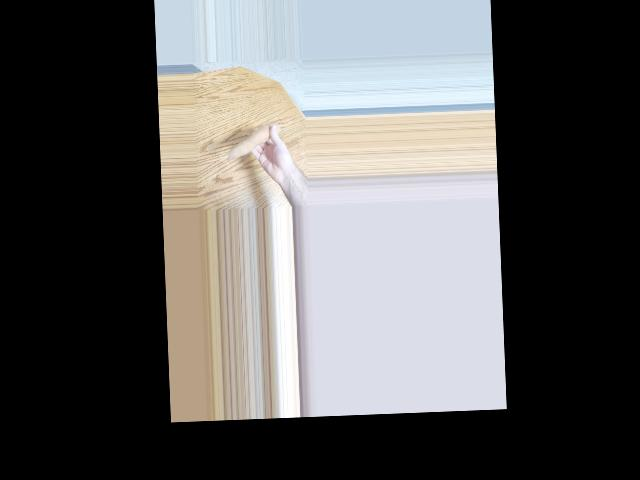sweet_potato: (227, 122, 282, 160)
